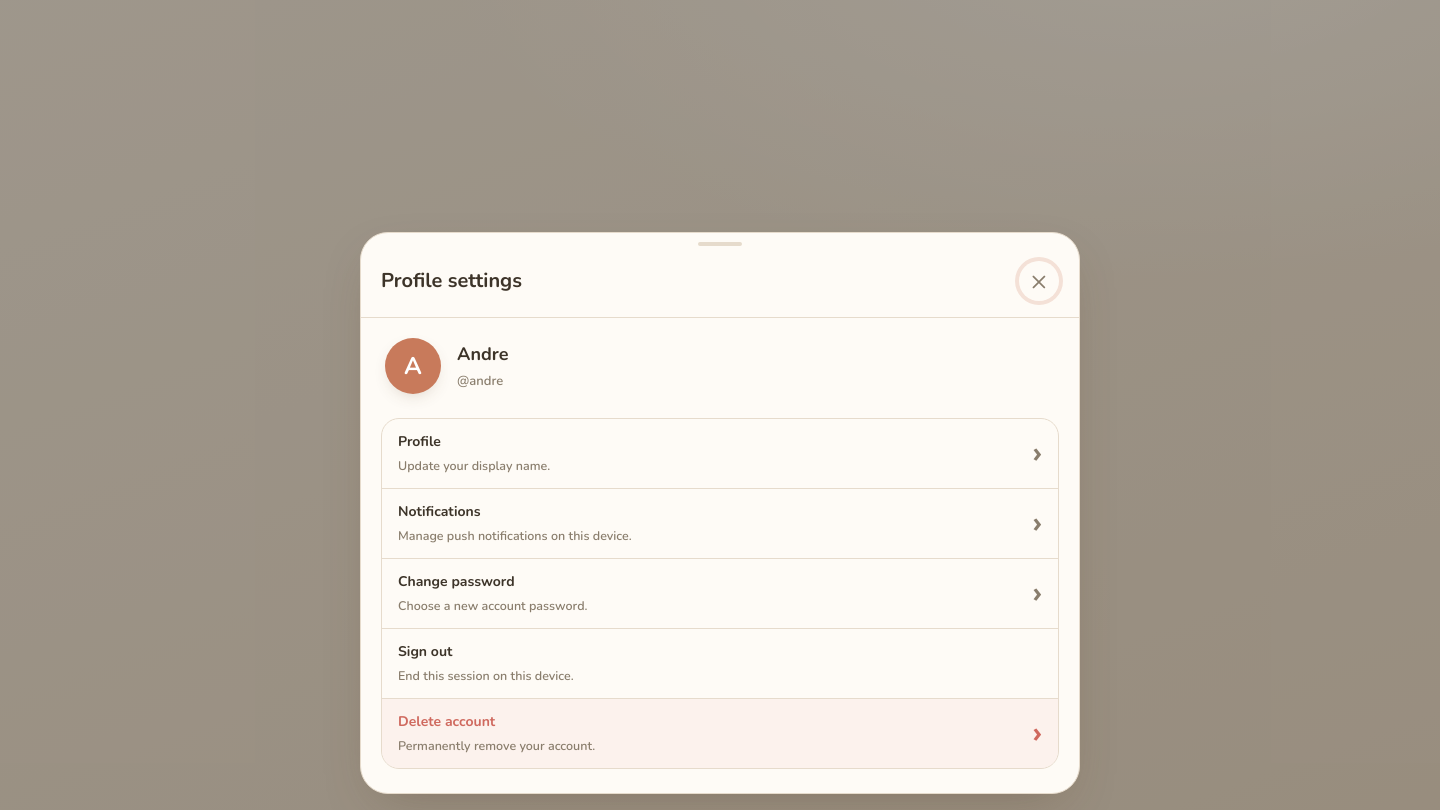
Test case: ProfileSettings › updates the display name after verifying the current password
Click the button "Profile Update your display name. ›".
click(419, 442)  # box 382,419 -> 1058,489
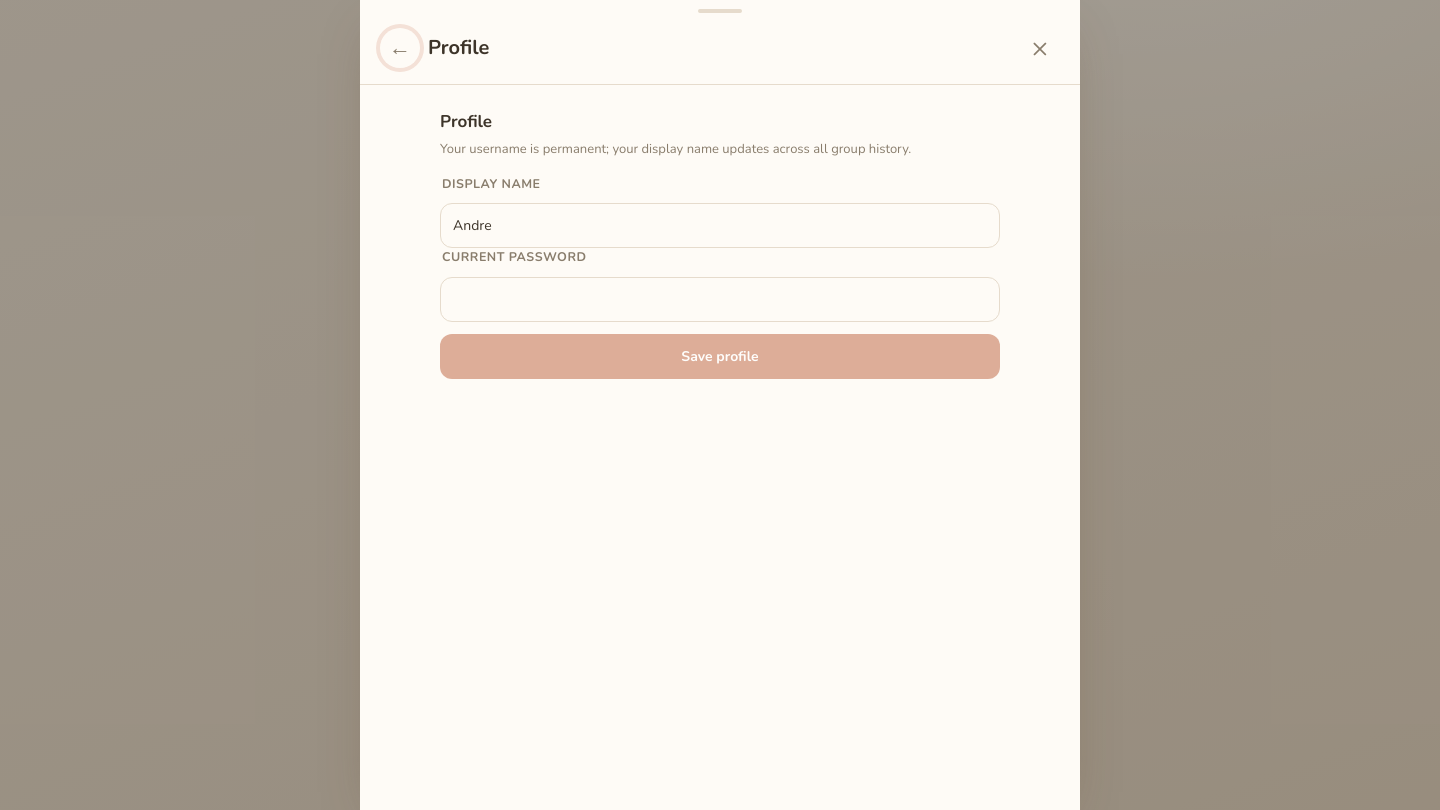
Replace the text in the field labelled "Display name" with "  Andre T  " at [720, 226], box 440,203 -> 1000,248
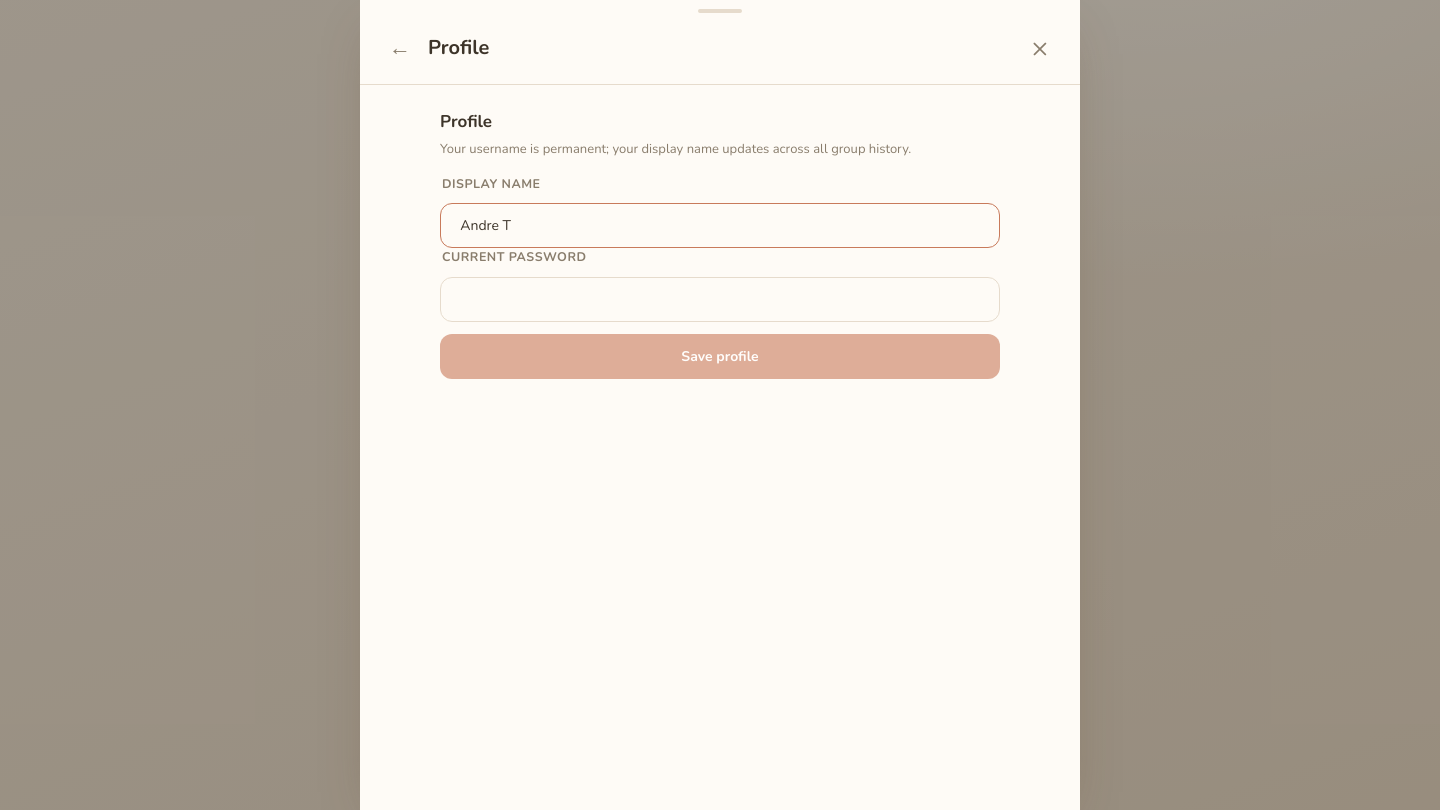
Type "roomie" into the password field labelled "Current password".
click(720, 300); type("roomie")  # box 440,277 -> 1000,322
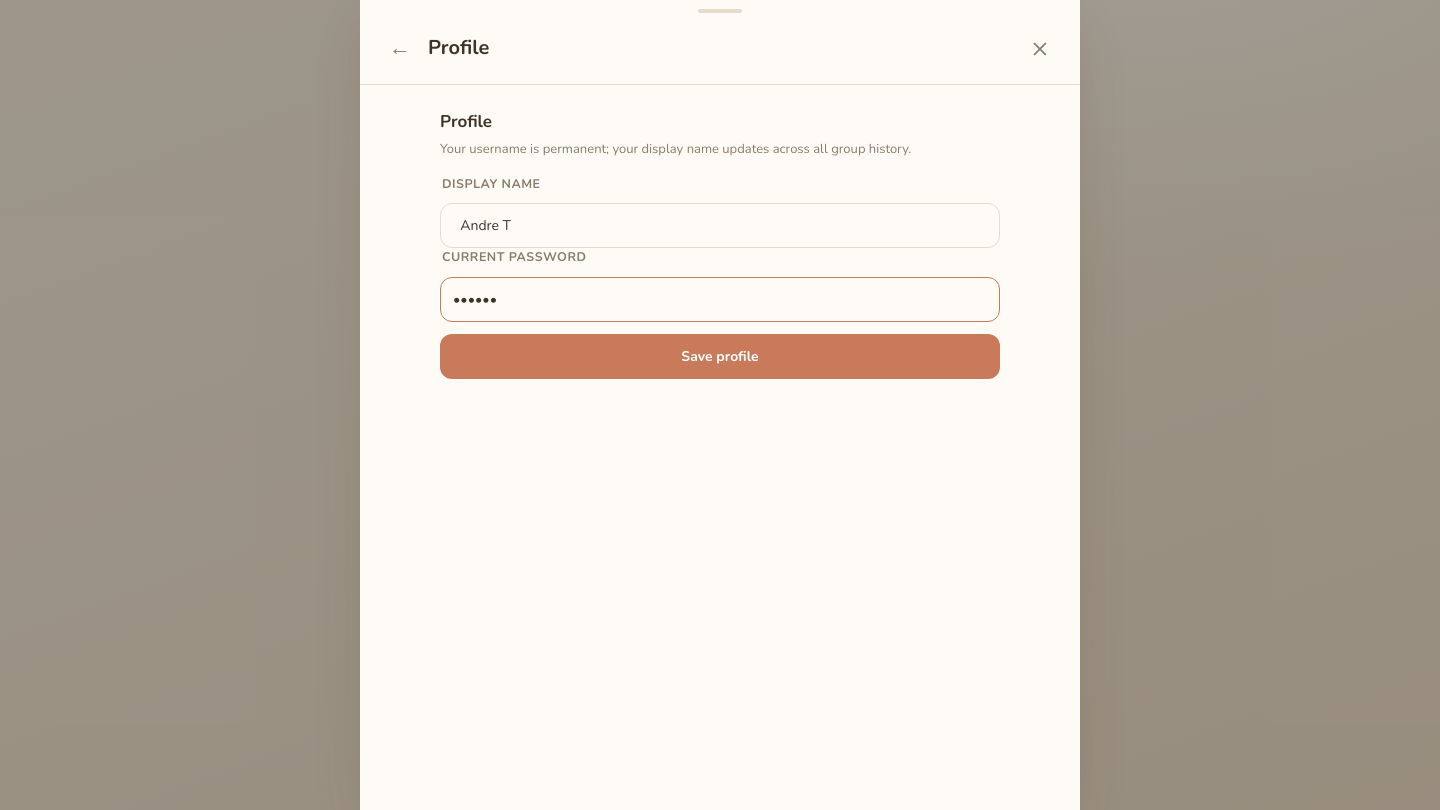
Click the button "Save profile".
click(720, 356)  # box 440,334 -> 1000,379
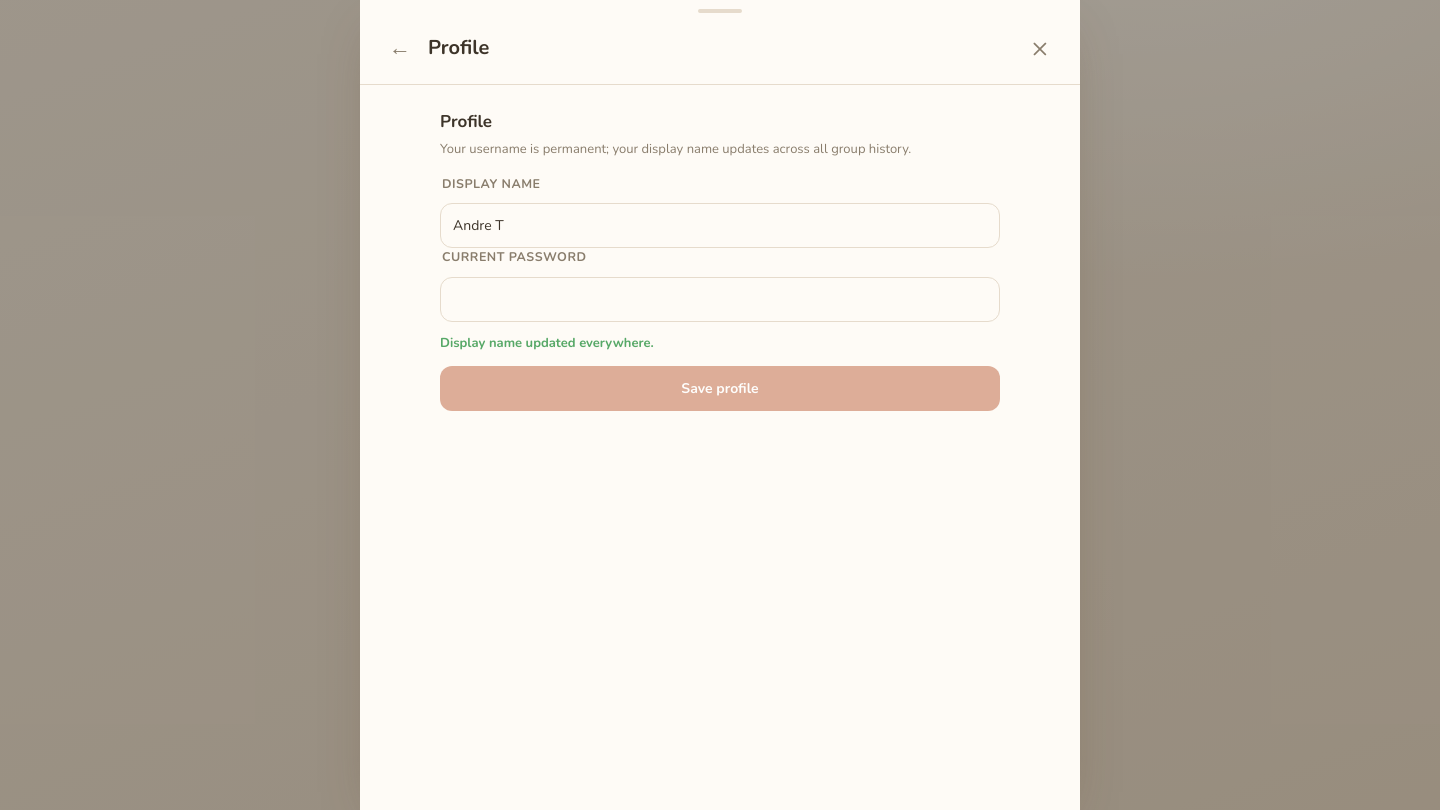
Expected: the text "Display name updated everywhere." is shown, 440,334 -> 654,352
